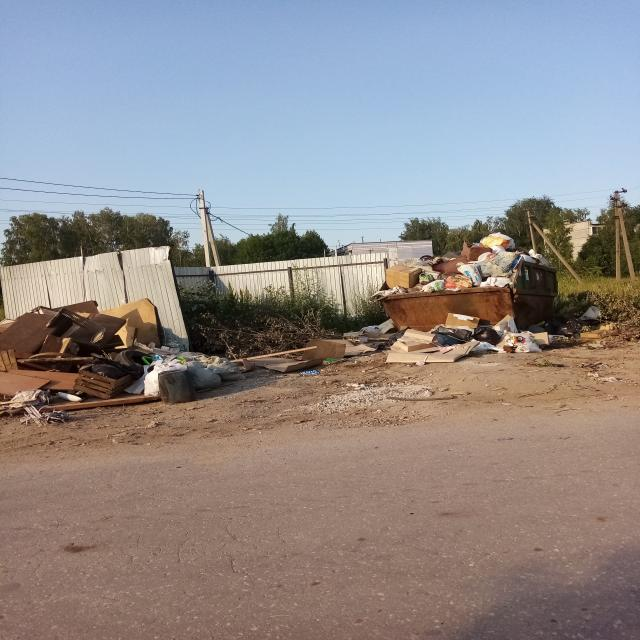plastic: (2, 300, 169, 425), (284, 313, 580, 357), (382, 235, 562, 297), (170, 342, 246, 393), (576, 299, 640, 343)
